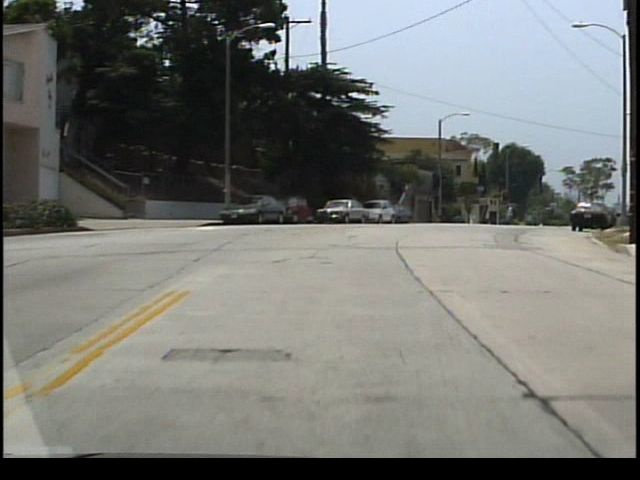person: (508, 204, 516, 226)
